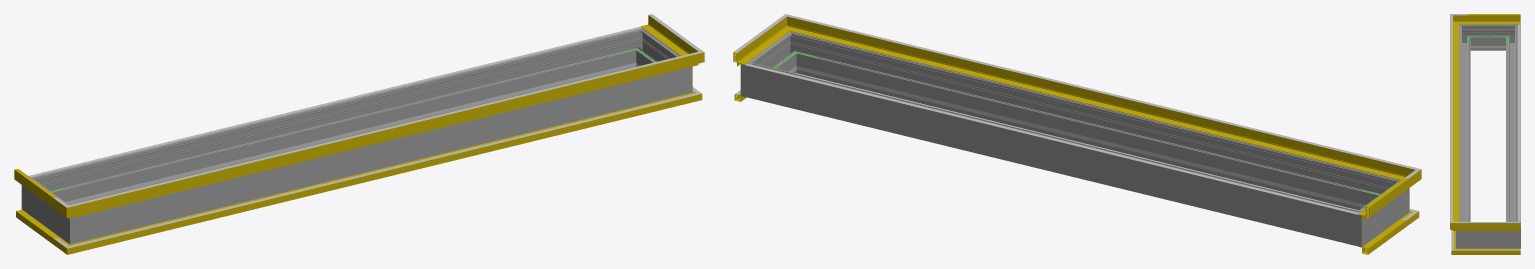
The picture shows the model from 3 angles, left to right: view 1: azimuth 30°, elevation 25°; view 2: azimuth 150°, elevation 25°; view 3: azimuth 270°, elevation 25°; orthographic projection. The views are drawn at different scales.
Parts seen in each view (by area): view 1: 3DGeom-278, 3DGeom-300, 3DGeom-56, 3DGeom-11, 3DGeom-246, 3DGeom-222, 3DGeom-66, 3DGeom-20, 3DGeom-272, 3DGeom-286, 3DGeom-58, 3DGeom-292 (+6 smaller); view 2: 3DGeom-300, 3DGeom-278, 3DGeom-56, 3DGeom-241, 3DGeom-222, 3DGeom-66, 3DGeom-280, 3DGeom-286, 3DGeom-58, 3DGeom-292, 3DGeom-299, 3DGeom-270 (+4 smaller); view 3: 3DGeom-278, 3DGeom-300, 3DGeom-56, 3DGeom-270, 3DGeom-222, 3DGeom-66, 3DGeom-299, 3DGeom-50, 3DGeom-58, 3DGeom-16, 3DGeom-286, 3DGeom-292 (+12 smaller).
Boxes of the visible parts, left/top/right/bottom form: 3DGeom-278: left=46, top=33, right=632, bottom=204; 3DGeom-300: left=92, top=72, right=669, bottom=238; 3DGeom-56: left=87, top=58, right=681, bottom=214; 3DGeom-11: left=87, top=97, right=679, bottom=249; 3DGeom-246: left=73, top=68, right=614, bottom=203; 3DGeom-222: left=28, top=26, right=642, bottom=177; 3DGeom-66: left=88, top=56, right=681, bottom=202; 3DGeom-20: left=88, top=98, right=678, bottom=242; 3DGeom-272: left=57, top=201, right=92, bottom=244; 3DGeom-286: left=623, top=28, right=653, bottom=67; 3DGeom-58: left=641, top=15, right=687, bottom=54; 3DGeom-292: left=669, top=52, right=692, bottom=97; 3DGeom-300: left=800, top=36, right=1384, bottom=210; 3DGeom-278: left=763, top=66, right=1342, bottom=241; 3DGeom-56: left=802, top=21, right=1396, bottom=177; 3DGeom-241: left=818, top=71, right=1357, bottom=206; 3DGeom-222: left=745, top=63, right=1358, bottom=214; 3DGeom-66: left=806, top=19, right=1398, bottom=164; 3DGeom-280: left=1339, top=204, right=1374, bottom=247; 3DGeom-286: left=740, top=55, right=767, bottom=101; 3DGeom-58: left=733, top=25, right=783, bottom=66; 3DGeom-292: left=779, top=31, right=809, bottom=73; 3DGeom-299: left=757, top=39, right=794, bottom=72; 3DGeom-270: left=1367, top=188, right=1396, bottom=237; 3DGeom-278: left=1506, top=30, right=1520, bottom=221; 3DGeom-300: left=1459, top=30, right=1470, bottom=221; 3DGeom-56: left=1450, top=21, right=1458, bottom=221; 3DGeom-270: left=1473, top=24, right=1503, bottom=50; 3DGeom-222: left=1518, top=24, right=1520, bottom=221; 3DGeom-66: left=1450, top=21, right=1452, bottom=215; 3DGeom-299: left=1473, top=231, right=1503, bottom=248; 3DGeom-50: left=1467, top=15, right=1520, bottom=24; 3DGeom-58: left=1467, top=223, right=1520, bottom=230; 3DGeom-16: left=1469, top=248, right=1520, bottom=254; 3DGeom-286: left=1503, top=220, right=1520, bottom=248; 3DGeom-292: left=1456, top=220, right=1473, bottom=248.
Size of the model in its own units: 4.27 by 0.307 by 0.6096.
